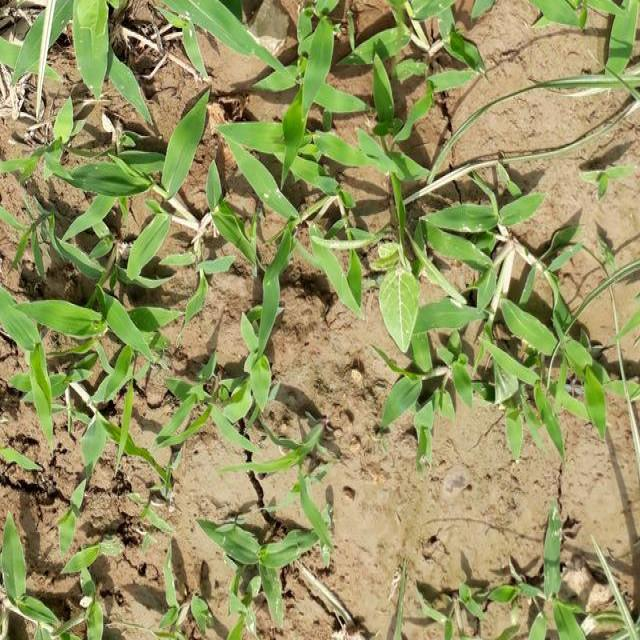weed: (0, 0, 574, 443)
